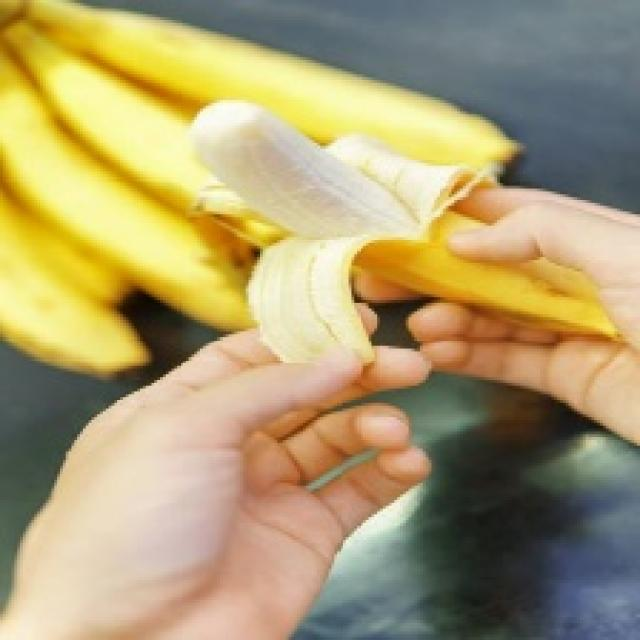Banana: (0, 0, 526, 377), (185, 97, 626, 369)
